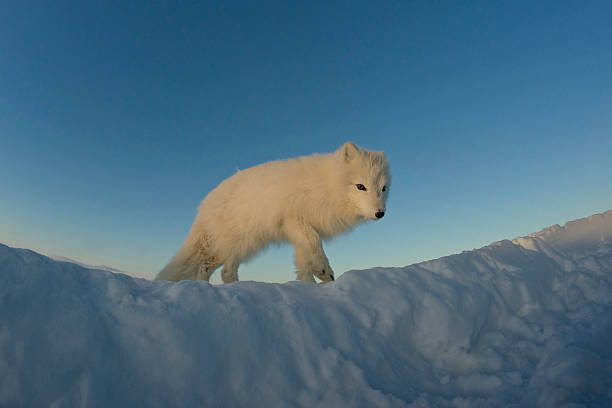arcticfox: (343, 150, 396, 235)
